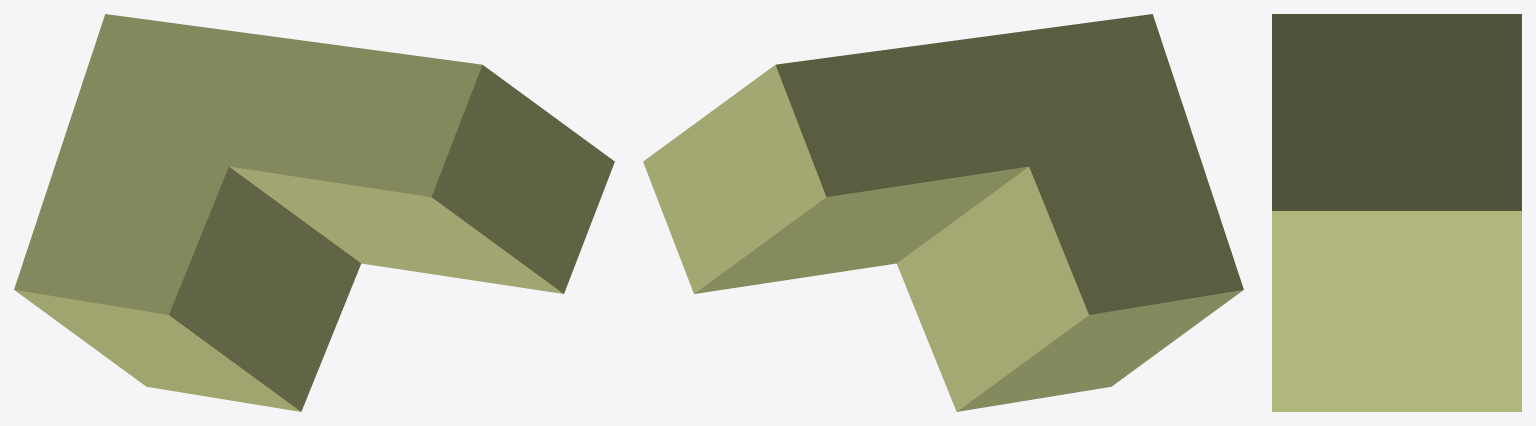
3 views of the same model, side by side, from view 1: azimuth 30°, elevation 25°; view 2: azimuth 150°, elevation 25°; view 3: azimuth 270°, elevation 25° (orthographic). The views are drawn at different scales.
Visible parts, largest first — view 1: 0_0_1_3_1_2_2_2_3_3; view 2: 0_0_1_3_1_2_2_2_3_3; view 3: 0_0_1_3_1_2_2_2_3_3.
Boxes of the visible parts, left/top/right/bottom form: 0_0_1_3_1_2_2_2_3_3: left=14, top=14, right=614, bottom=411; 0_0_1_3_1_2_2_2_3_3: left=643, top=14, right=1243, bottom=411; 0_0_1_3_1_2_2_2_3_3: left=1272, top=14, right=1521, bottom=411.
Size of the model in its own units: 18.38 by 11.87 by 9.
